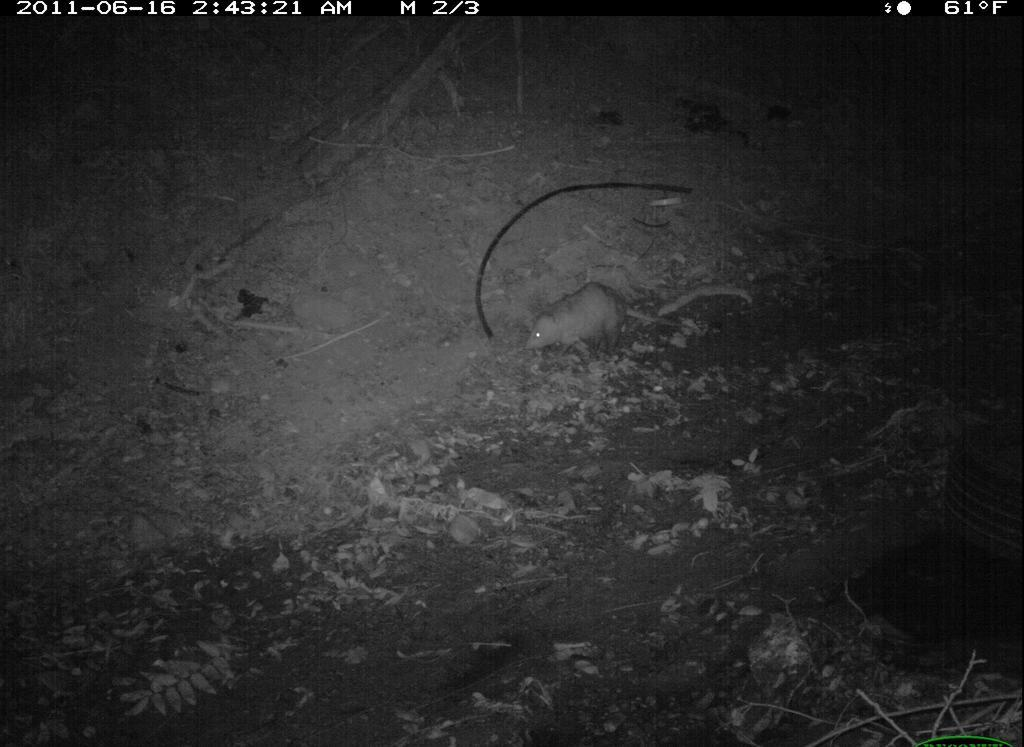opossum: (524, 278, 692, 363)
